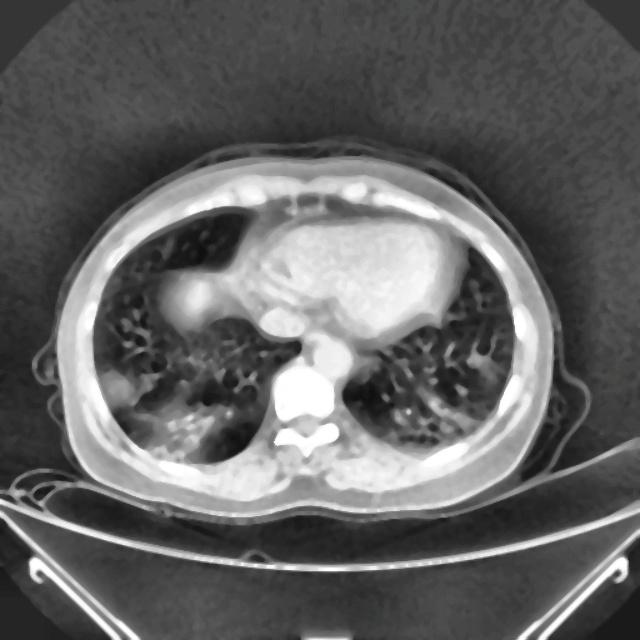covid: (46, 141, 570, 524)
